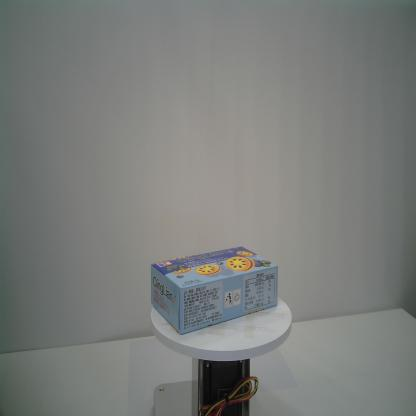Dessert: (151, 245, 278, 335)
